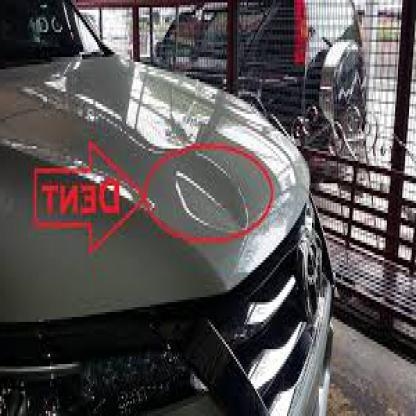dent: (166, 162, 256, 229)
